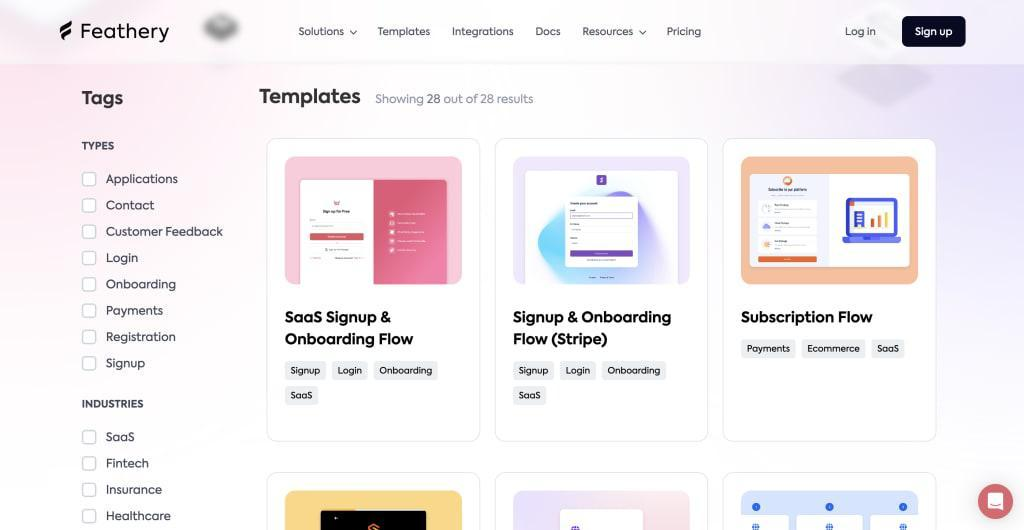button: (902, 16, 968, 48), (603, 362, 667, 381), (375, 362, 438, 381), (804, 340, 866, 358), (742, 341, 797, 358), (561, 361, 597, 381), (287, 362, 326, 380), (514, 363, 555, 380), (873, 340, 905, 360), (514, 387, 547, 406), (333, 363, 369, 380), (286, 387, 318, 405)
checkbox: (83, 357, 99, 373), (82, 278, 98, 293), (83, 330, 98, 346), (83, 430, 98, 446), (82, 457, 98, 472), (83, 483, 98, 499), (83, 173, 98, 188), (83, 199, 98, 214), (83, 252, 98, 267), (83, 510, 98, 525), (84, 304, 98, 320), (83, 225, 98, 239)
icon: (979, 485, 1014, 521)
label: (513, 310, 674, 351), (285, 309, 417, 350), (259, 86, 363, 110), (741, 311, 875, 329), (375, 93, 536, 107), (79, 22, 173, 44), (105, 225, 225, 242), (104, 277, 180, 294), (105, 508, 174, 526), (108, 330, 179, 347), (106, 175, 185, 188), (82, 89, 127, 111), (107, 304, 165, 321), (299, 24, 360, 40), (582, 25, 649, 39), (104, 197, 159, 214), (107, 482, 163, 498), (81, 398, 146, 411), (453, 27, 515, 39), (104, 356, 149, 372), (105, 457, 153, 471), (378, 26, 432, 38), (666, 25, 704, 41), (845, 25, 879, 40), (105, 253, 141, 266), (107, 431, 138, 446), (82, 140, 117, 153), (536, 26, 562, 39)
